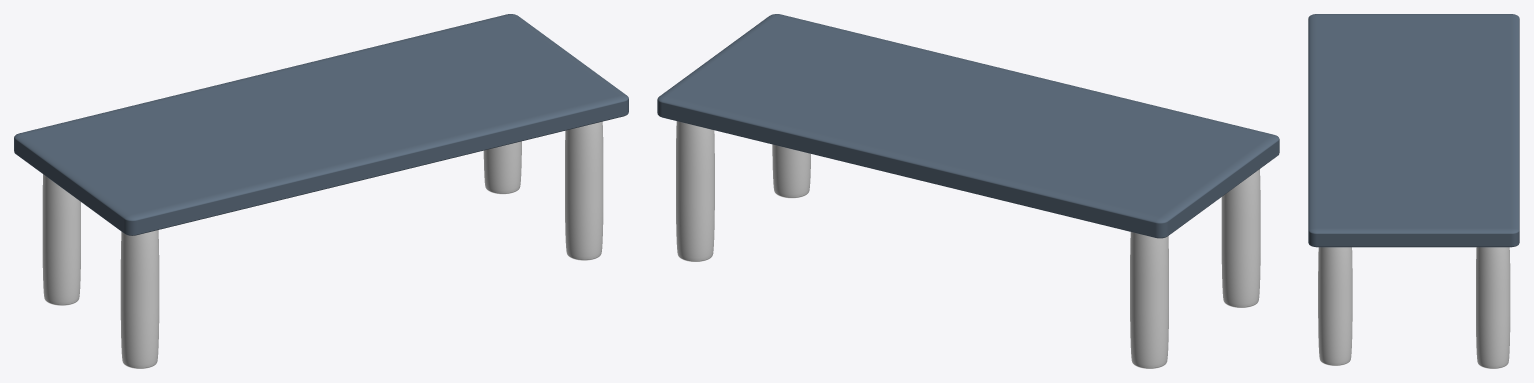
File: Table.glb
3 renders of one model, left to right at view 1: azimuth 30°, elevation 25°; view 2: azimuth 150°, elevation 25°; view 3: azimuth 270°, elevation 25°, orthographic. The views are drawn at different scales.
Parts seen in each view (by area): view 1: Box, Cylinder 3, Cylinder, Cylinder 2, Cylinder 1; view 2: Box, Cylinder 1, Cylinder 2, Cylinder 3, Cylinder; view 3: Box, Cylinder 1, Cylinder.
Part boxes in pixels (left/top/right/bottom): Box: left=14, top=14, right=628, bottom=235; Cylinder 3: left=120, top=230, right=159, bottom=368; Cylinder: left=565, top=121, right=603, bottom=260; Cylinder 2: left=42, top=174, right=80, bottom=305; Cylinder 1: left=483, top=141, right=521, bottom=194; Box: left=657, top=14, right=1279, bottom=238; Cylinder 1: left=676, top=121, right=714, bottom=261; Cylinder 2: left=1130, top=232, right=1168, bottom=368; Cylinder 3: left=1221, top=169, right=1260, bottom=307; Cylinder: left=772, top=144, right=810, bottom=198; Box: left=1308, top=14, right=1519, bottom=247; Cylinder 1: left=1476, top=247, right=1510, bottom=368; Cylinder: left=1318, top=247, right=1352, bottom=365.
Size of the model in its own units: 0.2915 by 0.0881 by 0.1185.
